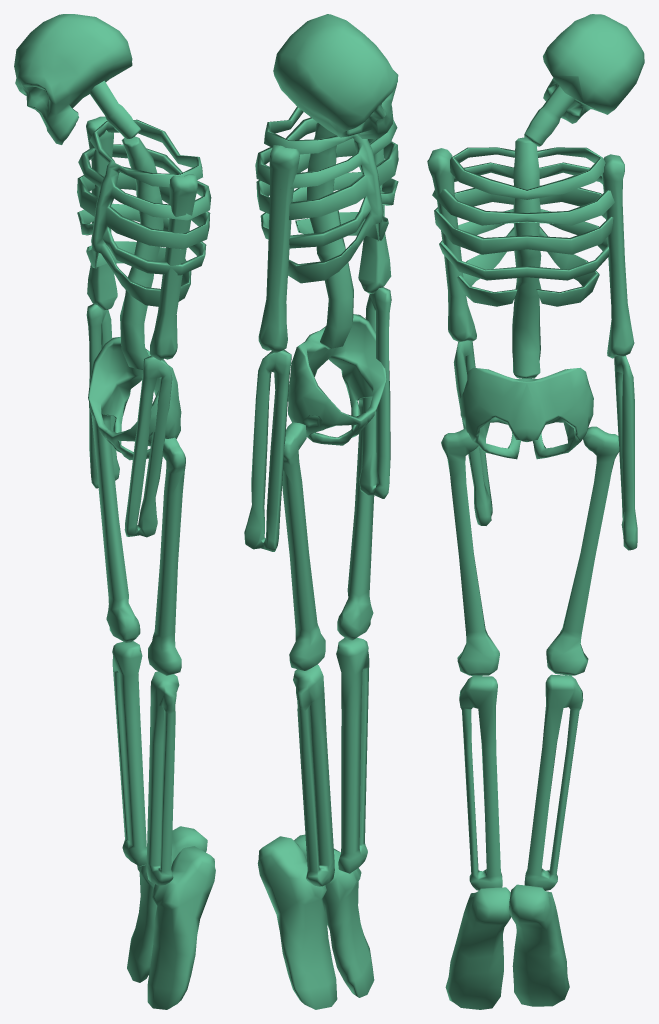
Rendered from Skeleton_03_Lod1.fbx.
The picture shows the model from 3 angles, left to right: view 1: azimuth 30°, elevation 25°; view 2: azimuth 150°, elevation 25°; view 3: azimuth 270°, elevation 25°; orthographic projection. The views are drawn at different scales.
Visible parts, largest first — view 1: Skeleton_03_Lod1; view 2: Skeleton_03_Lod1; view 3: Skeleton_03_Lod1.
Boxes of the visible parts, left/top/right/bottom form: Skeleton_03_Lod1: left=14, top=14, right=215, bottom=1009; Skeleton_03_Lod1: left=244, top=14, right=398, bottom=1009; Skeleton_03_Lod1: left=427, top=14, right=644, bottom=1009.
Bounding box in the file's own units: 26.65 × 158 × 31.88.
